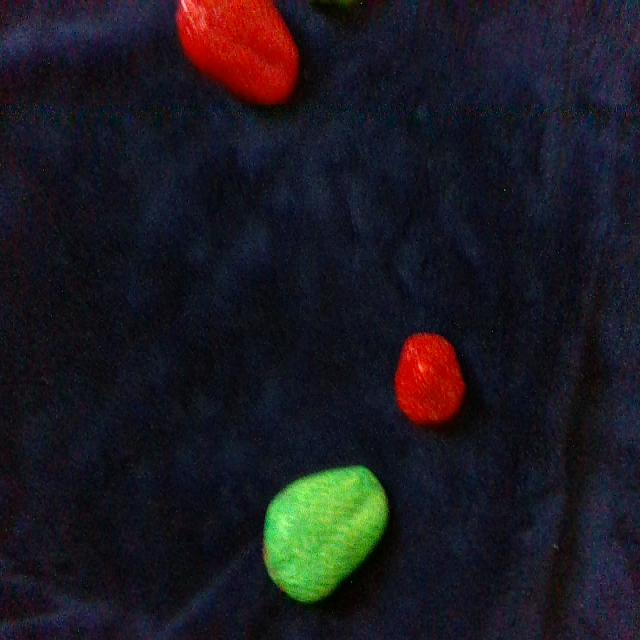chica_roja: (395, 333, 465, 425)
grande_roja: (176, 0, 298, 104)
verde: (264, 467, 388, 601)
